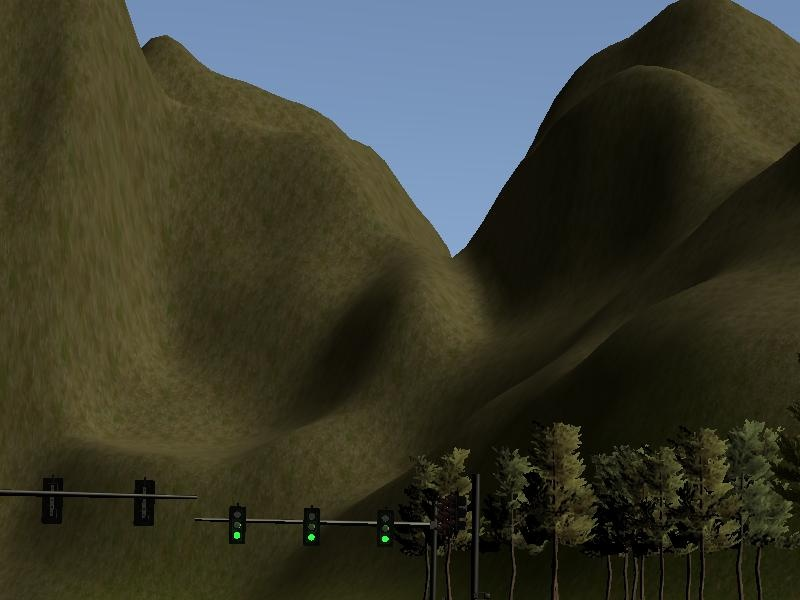green: (226, 502, 248, 548), (302, 505, 322, 550), (374, 505, 394, 548)
